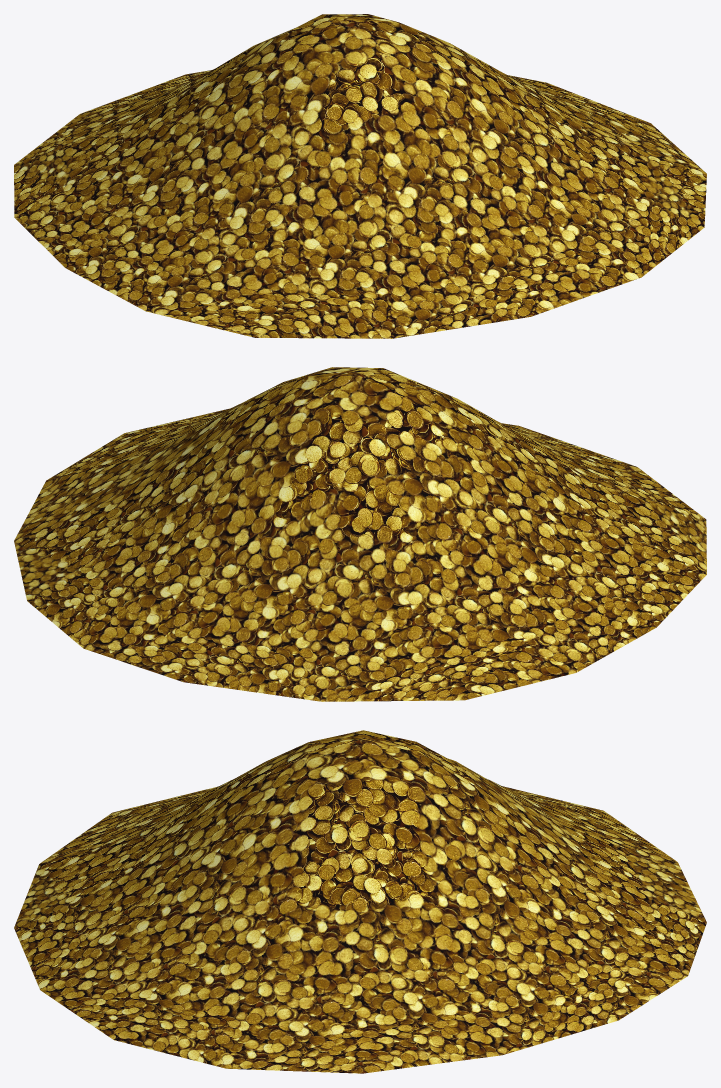
Rendered from pirate_gold_pile.glb.
3 views of the same model, one above another, from view 1: azimuth 30°, elevation 25°; view 2: azimuth 150°, elevation 25°; view 3: azimuth 270°, elevation 25° (orthographic). The views are drawn at different scales.
Visible parts, largest first — view 1: gold_pile_0; view 2: gold_pile_0; view 3: gold_pile_0.
Part boxes in pixels (<box>): gold_pile_0: <box>14,14,706,338</box>; gold_pile_0: <box>14,367,706,701</box>; gold_pile_0: <box>14,730,706,1073</box>.
Bounding box in the file's own units: 5.64 × 1.61 × 5.57.
1 material, 1 textured.
